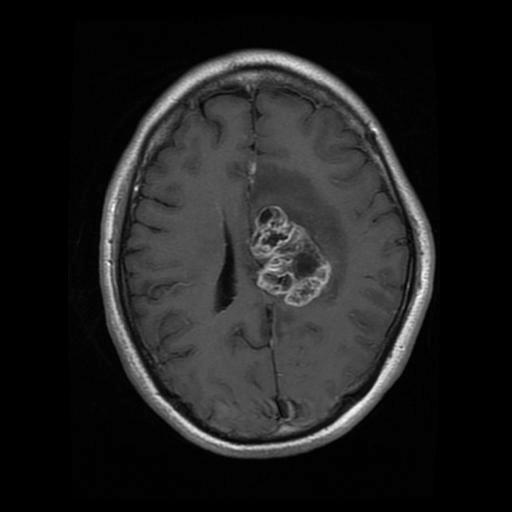Tumour-Glioma: (241, 205, 352, 305)
